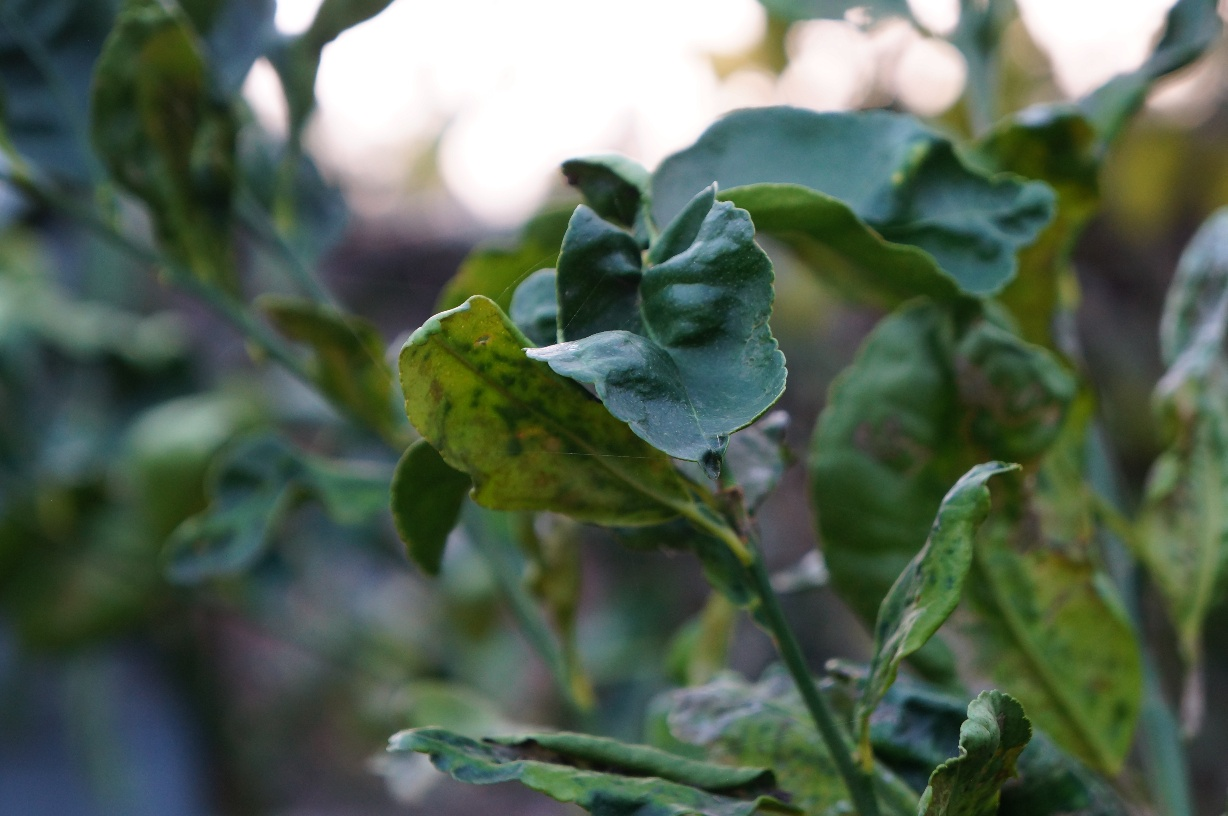damage: (395, 289, 709, 536), (884, 454, 1024, 677)
